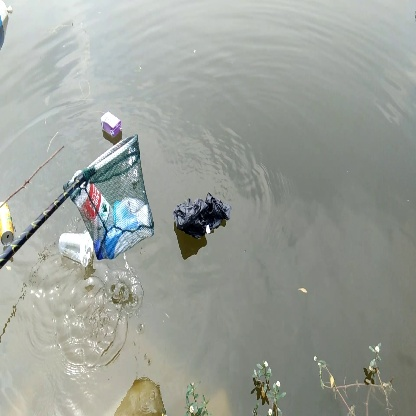milk-box: (97, 108, 122, 134)
plastic-bag: (171, 193, 237, 243)
